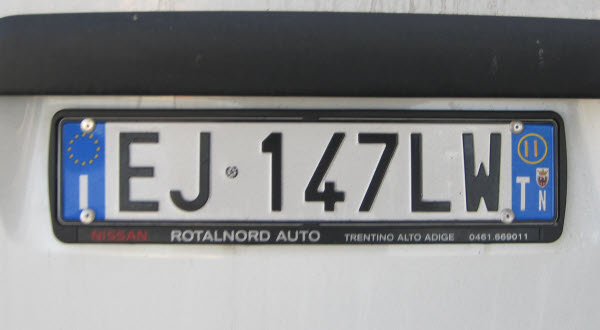license_plate: (56, 118, 559, 227)
